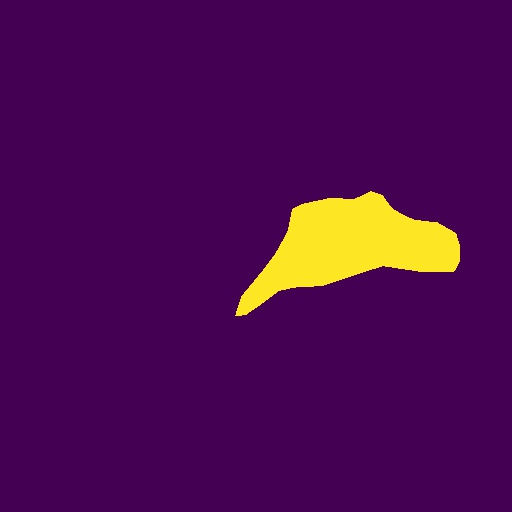Gliomia_tumour: (235, 191, 460, 316)
